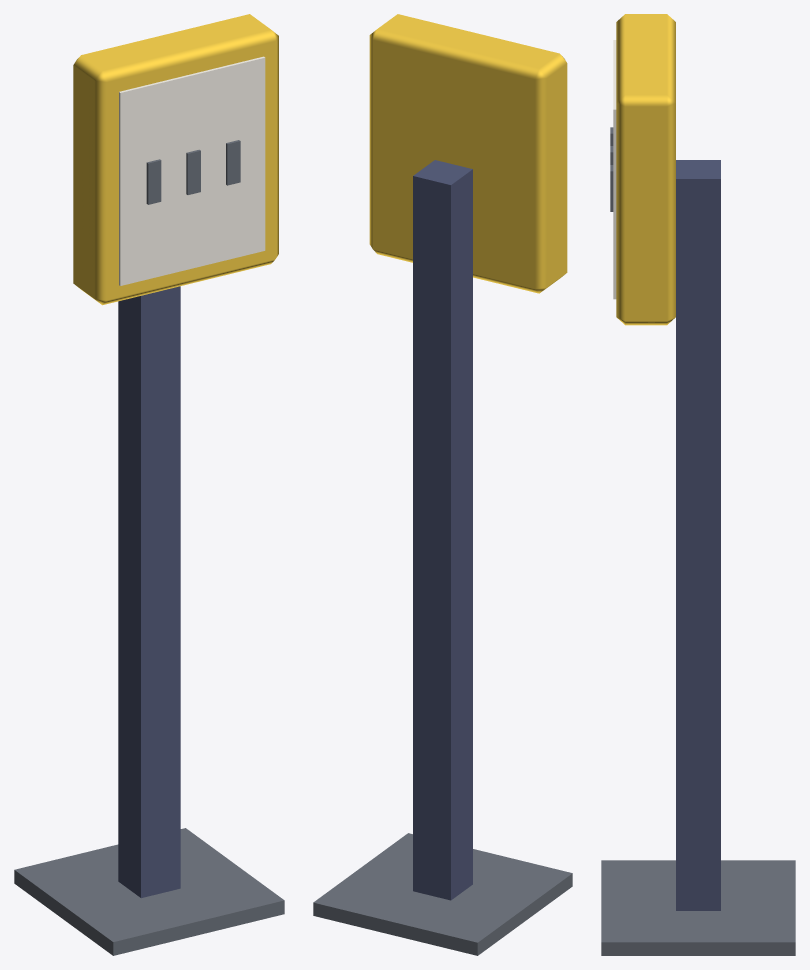
Rendered from station_special_ausstattung_2_1.glb.
3 renders of one model, left to right at view 1: azimuth 30°, elevation 25°; view 2: azimuth 150°, elevation 25°; view 3: azimuth 270°, elevation 25°, orthographic. The views are drawn at different scales.
Parts seen in each view (by area): view 1: station_special_ausstattung_2_1; view 2: station_special_ausstattung_2_1; view 3: station_special_ausstattung_2_1.
Boxes of the visible parts, bbox=[...] form: station_special_ausstattung_2_1: bbox=[14, 14, 284, 955]; station_special_ausstattung_2_1: bbox=[313, 14, 572, 955]; station_special_ausstattung_2_1: bbox=[601, 14, 795, 955].
Size of the model in its own units: 0.28 by 1.27 by 0.26.
